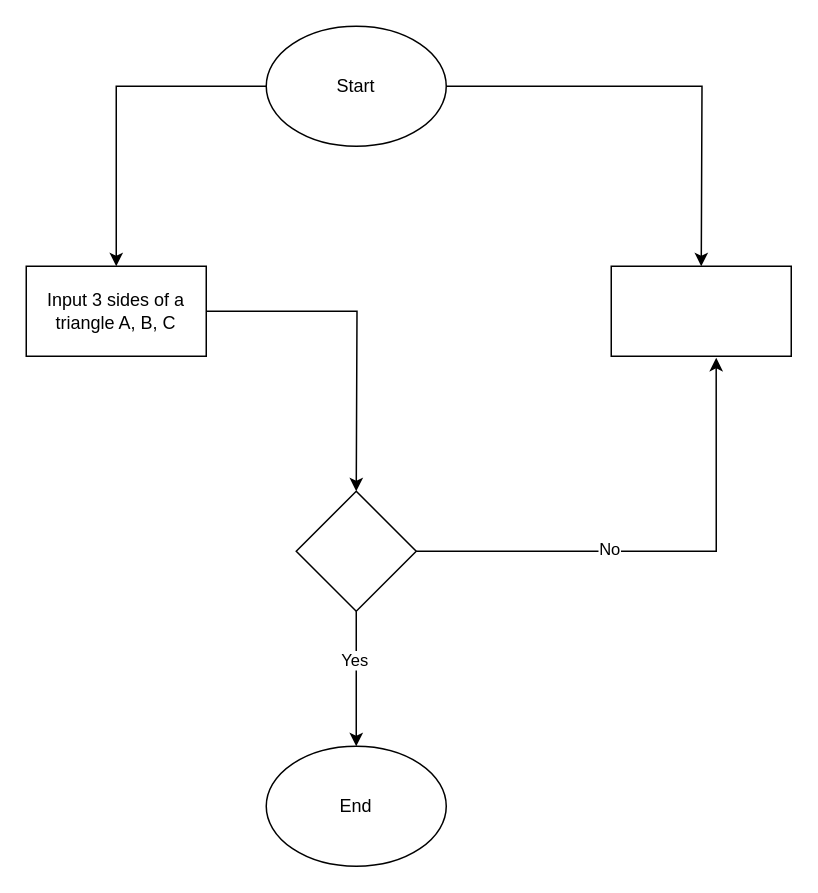
This 818x893 diagram has some shape labels left out. The centre of each missing label's shape, as x and y in pixels:
"Are all sides of triangle equal?" belongs at pixel 355 550.
"Triangle is not equilateral?" belongs at pixel 700 310.
